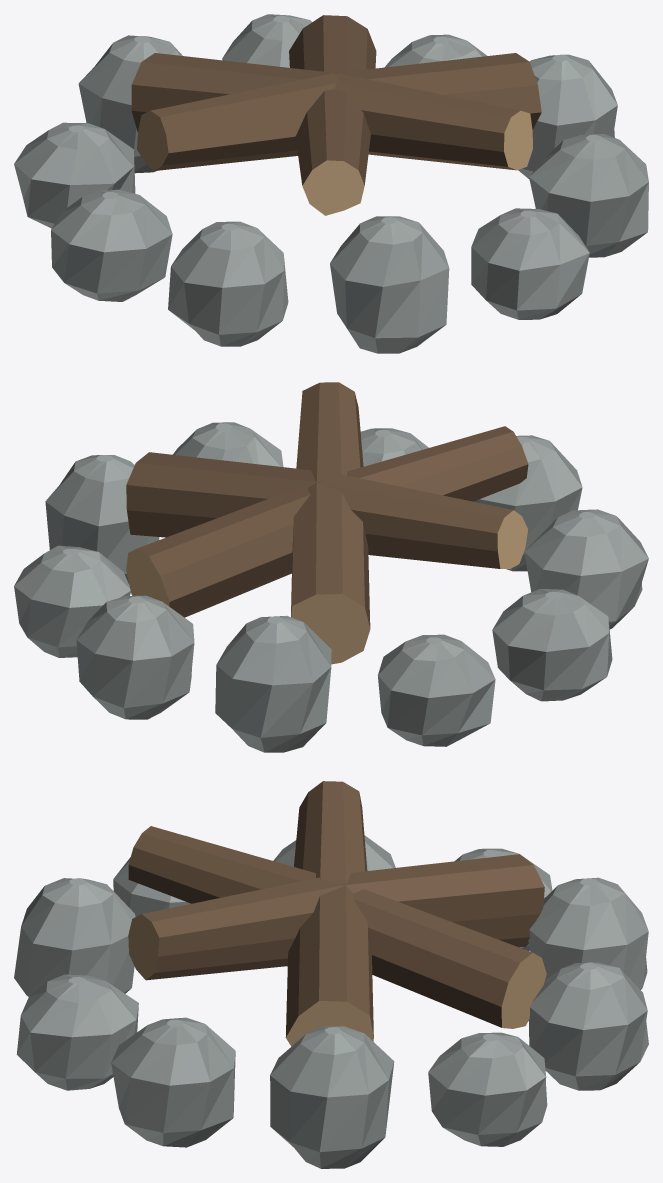
The model's file is campfire.glb.
The picture shows the model from 3 angles, top to bottom: view 1: azimuth 30°, elevation 25°; view 2: azimuth 150°, elevation 25°; view 3: azimuth 270°, elevation 25°; orthographic projection. The views are drawn at different scales.
Visible parts, largest first — view 1: campfire; view 2: campfire; view 3: campfire.
Part boxes in pixels (left/top/right/bottom): campfire: left=14, top=14, right=648, bottom=353; campfire: left=14, top=382, right=648, bottom=752; campfire: left=14, top=781, right=648, bottom=1168.
Bounding box in the file's own units: 1.05 × 0.2993 × 1.02.
